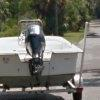Boat: (2, 16, 81, 98)
